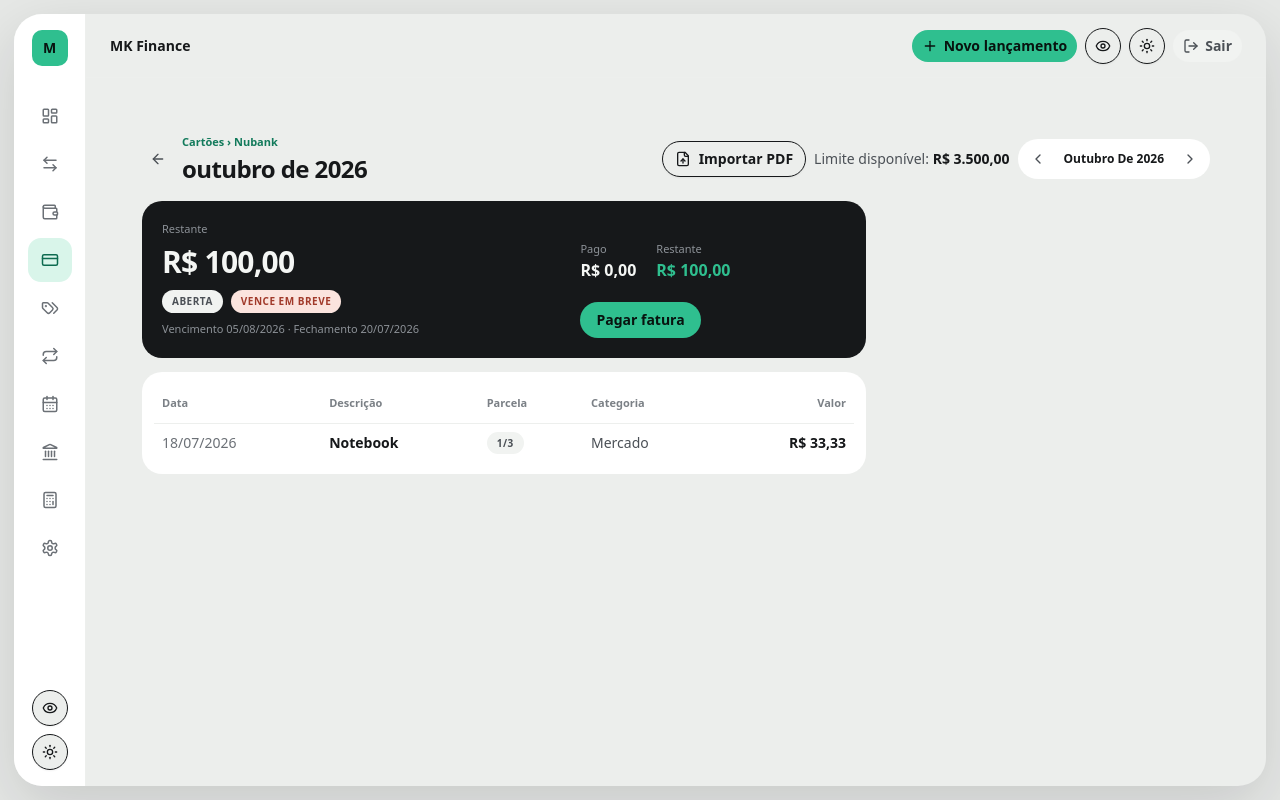
Test case: CardStatementsPage › blocks a payment larger than the remaining balance
This screenshot has width=1280, height=800.
Click the button "Pagar fatura".
click(641, 320)  # box [580, 302, 701, 338]
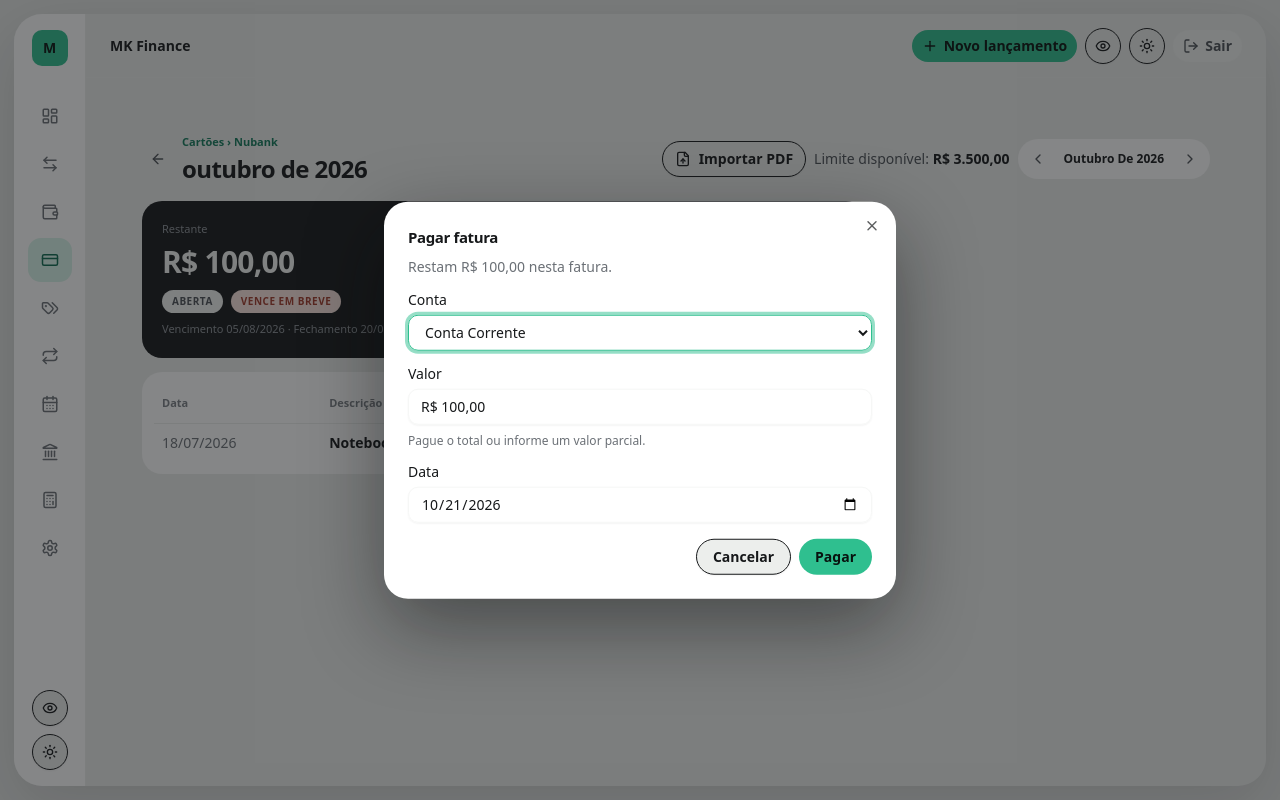
Replace the text in the field labelled "Valor" with "999999" at {"x": 640, "y": 406}, box [408, 388, 872, 424]
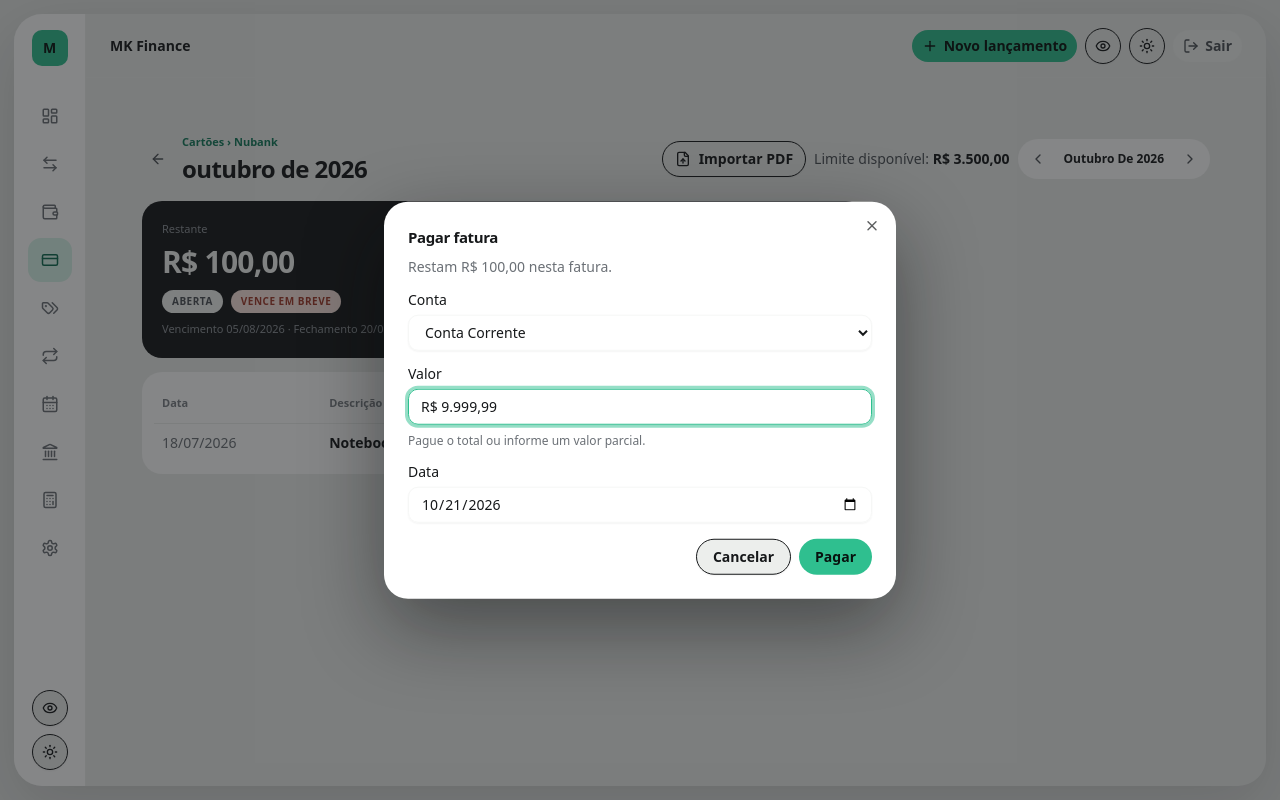
Click the button "Pagar".
click(836, 556)  # box [799, 538, 872, 574]
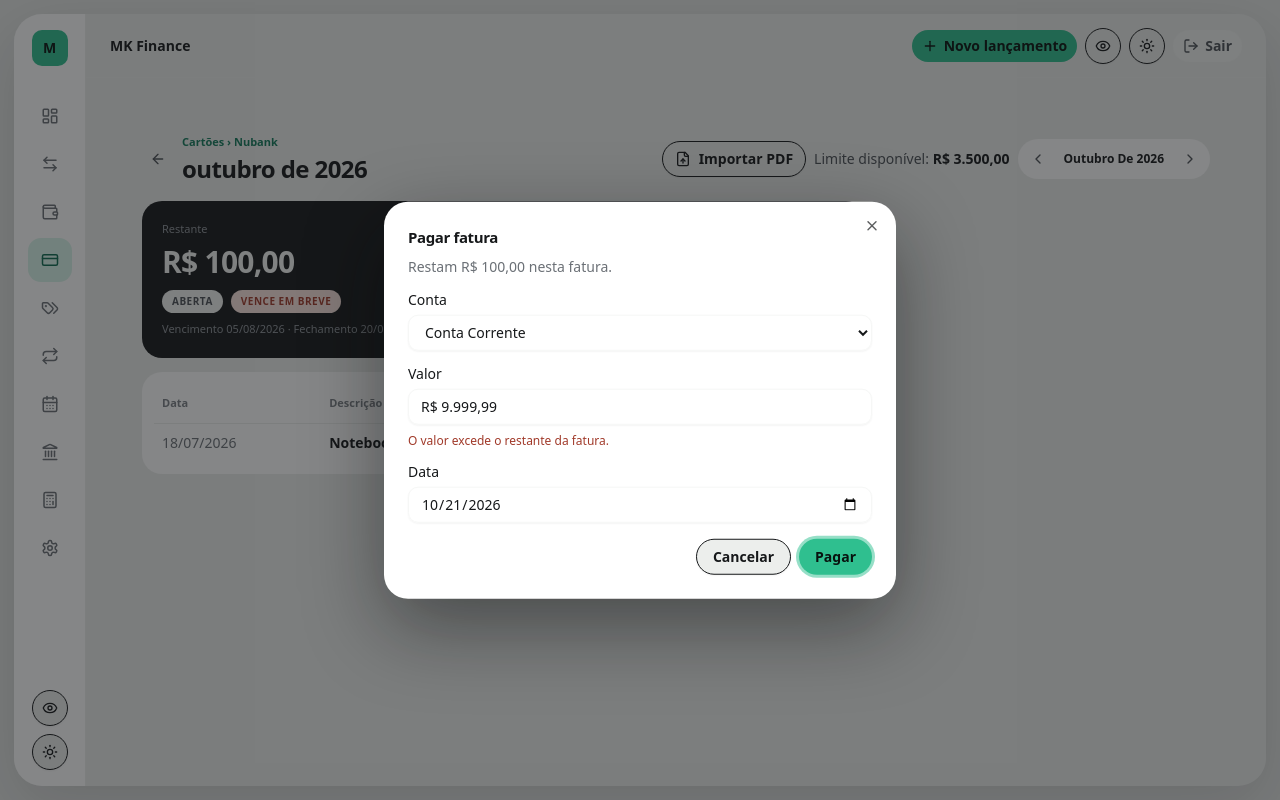
expect the text "O valor excede o restante da fatura." is shown: met, box [408, 431, 609, 448]
